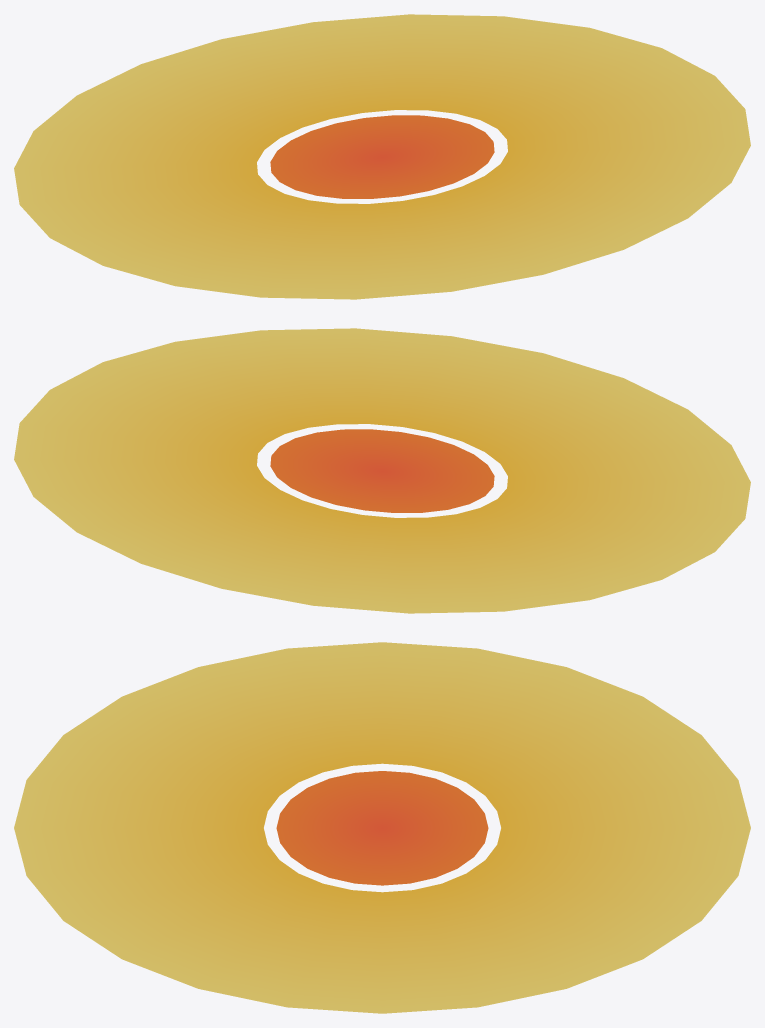
File: CannonImpactWarning.glb
3 renders of one model, top to bottom at view 1: azimuth 30°, elevation 25°; view 2: azimuth 150°, elevation 25°; view 3: azimuth 270°, elevation 25°, orthographic. The views are drawn at different scales.
Visible parts, largest first — view 1: CannonImpactWarning; view 2: CannonImpactWarning; view 3: CannonImpactWarning.
Part boxes in pixels (box(x1,y1,x2,y2)): CannonImpactWarning: box(14, 14, 750, 299); CannonImpactWarning: box(14, 328, 750, 613); CannonImpactWarning: box(14, 642, 750, 1013).
Size of the model in its own units: 6.8 by 0.002 by 5.7.
